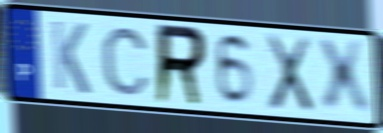6: (213, 32, 256, 108)
C: (99, 25, 153, 98)
K: (49, 17, 92, 98)
R: (153, 21, 210, 109)
X: (313, 38, 373, 118), (263, 33, 316, 116)
